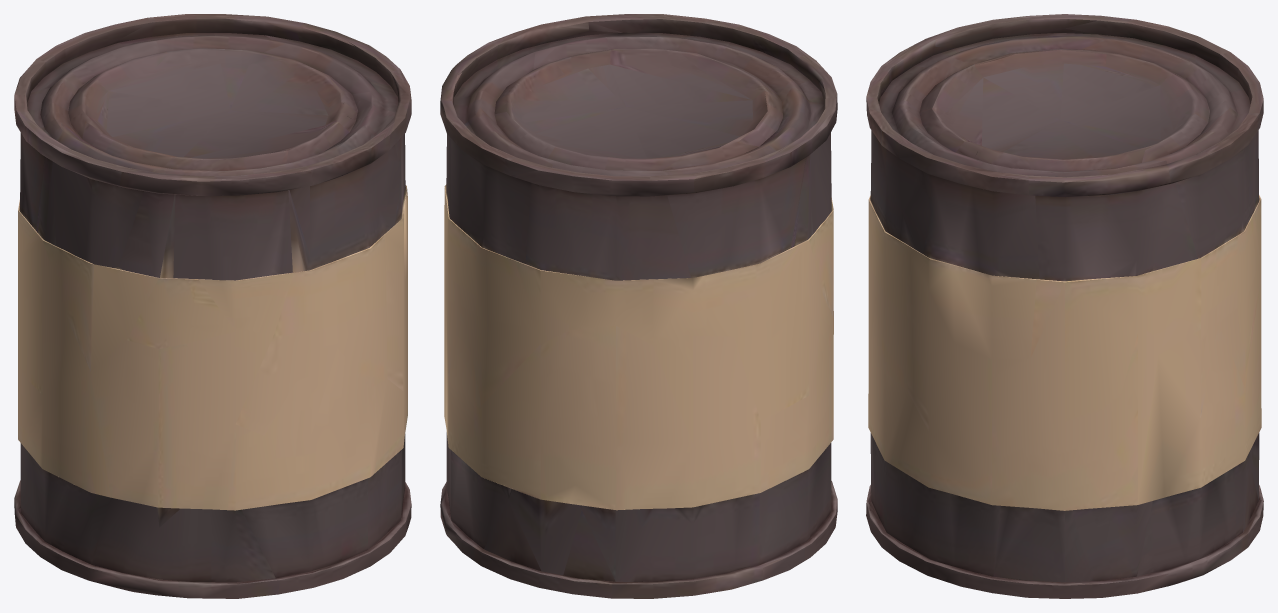
The model's file is food_canned_tushenka_idle.glb.
The picture shows the model from 3 angles, left to right: view 1: azimuth 30°, elevation 25°; view 2: azimuth 150°, elevation 25°; view 3: azimuth 270°, elevation 25°; orthographic projection.
Visible parts, largest first — view 1: tripo_node_38a5d848-4e41-4296-af42-24a4cbfdac13; view 2: tripo_node_38a5d848-4e41-4296-af42-24a4cbfdac13; view 3: tripo_node_38a5d848-4e41-4296-af42-24a4cbfdac13.
Boxes of the visible parts, x1,y1,x2,y2 form: tripo_node_38a5d848-4e41-4296-af42-24a4cbfdac13: [14, 14, 411, 598]; tripo_node_38a5d848-4e41-4296-af42-24a4cbfdac13: [440, 14, 837, 598]; tripo_node_38a5d848-4e41-4296-af42-24a4cbfdac13: [866, 14, 1263, 598].
Size of the model in its own units: 0.086 by 0.1 by 0.086.
Materials: 1 (1 with a texture image).
